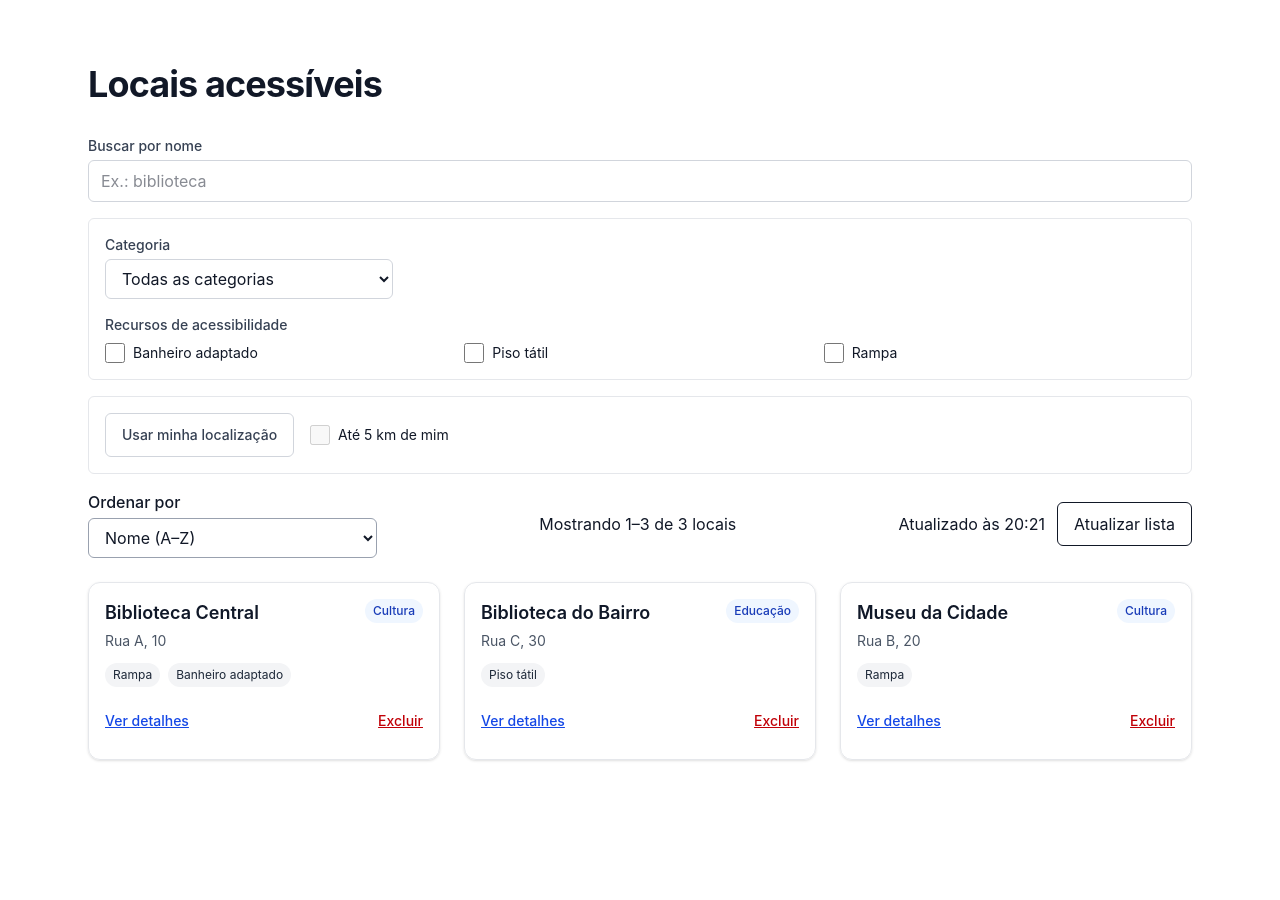
Test: Locais com histórico de pesquisas › mantém o histórico e mostra erro quando não consegue apagá-lo
In the search field labelled "Buscar por nome": (640, 181) [88, 160, 1192, 202], type "Museu"
Then press Enter
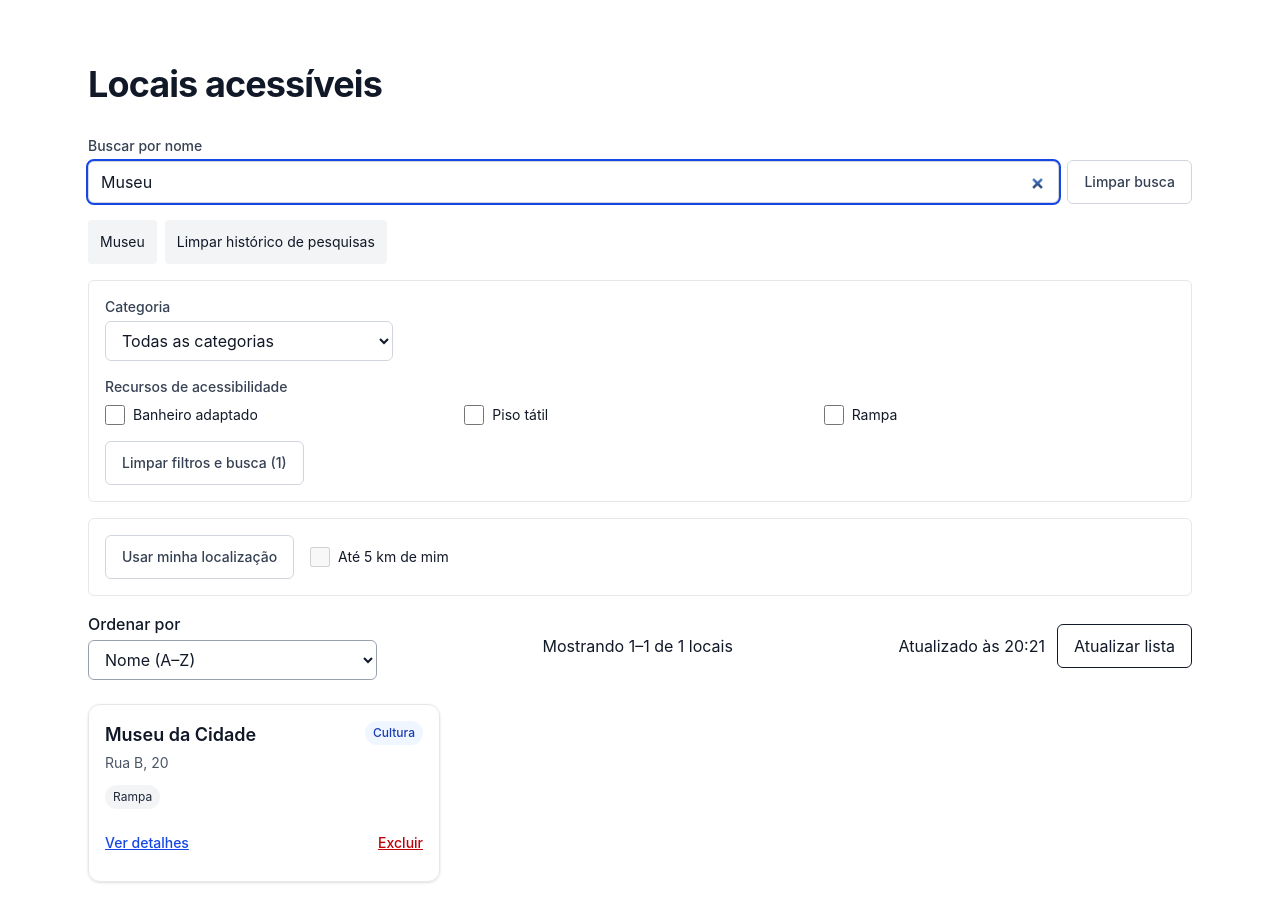
Click the button "Limpar histórico de pesquisas": (276, 242) [165, 220, 387, 264]
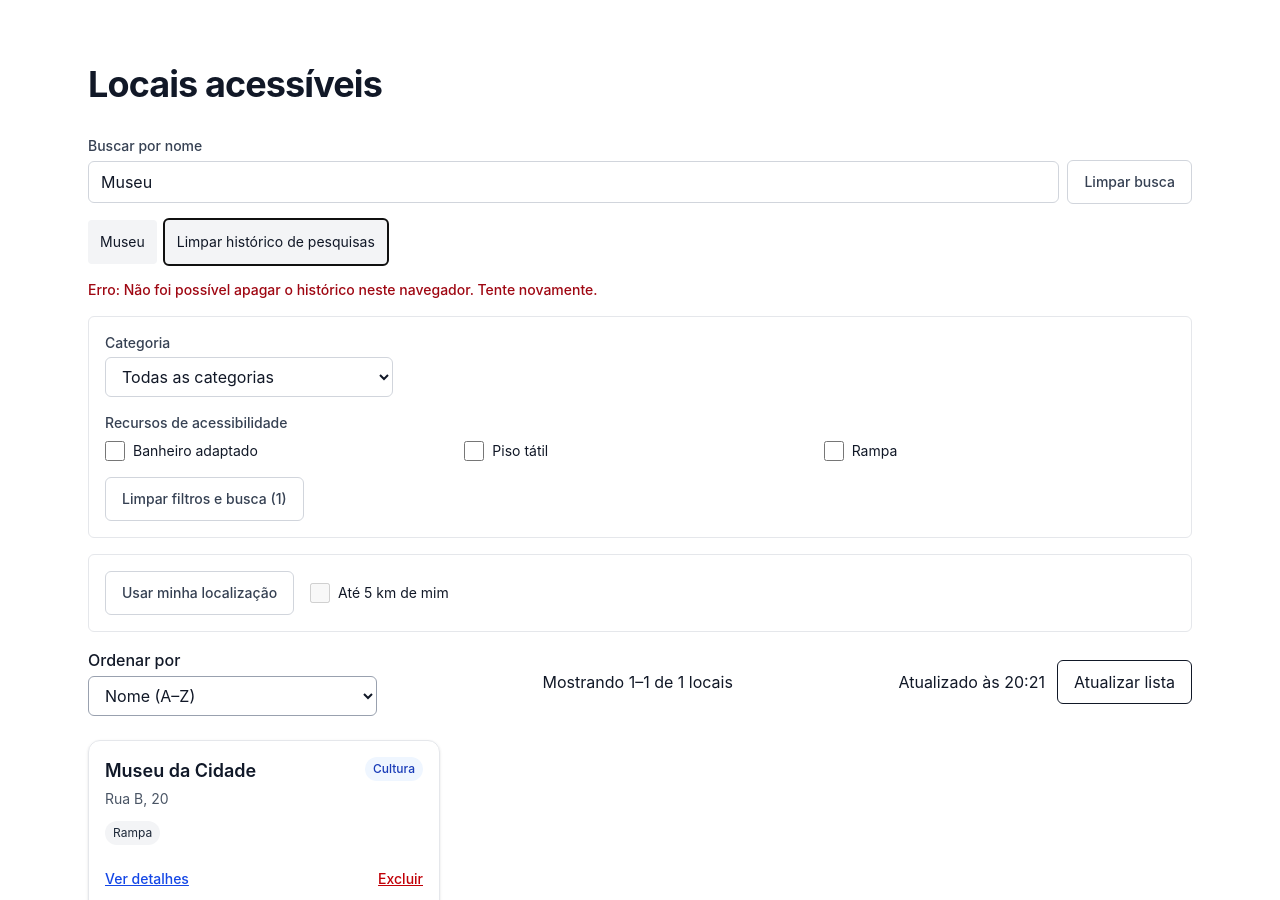
Expected: the button "Limpar histórico de pesquisas" is shown, [165, 220, 387, 264]
Expected: the message "Erro: Não foi possível apagar o histórico neste navegador. Tente novamente." is shown, [88, 281, 598, 298]
